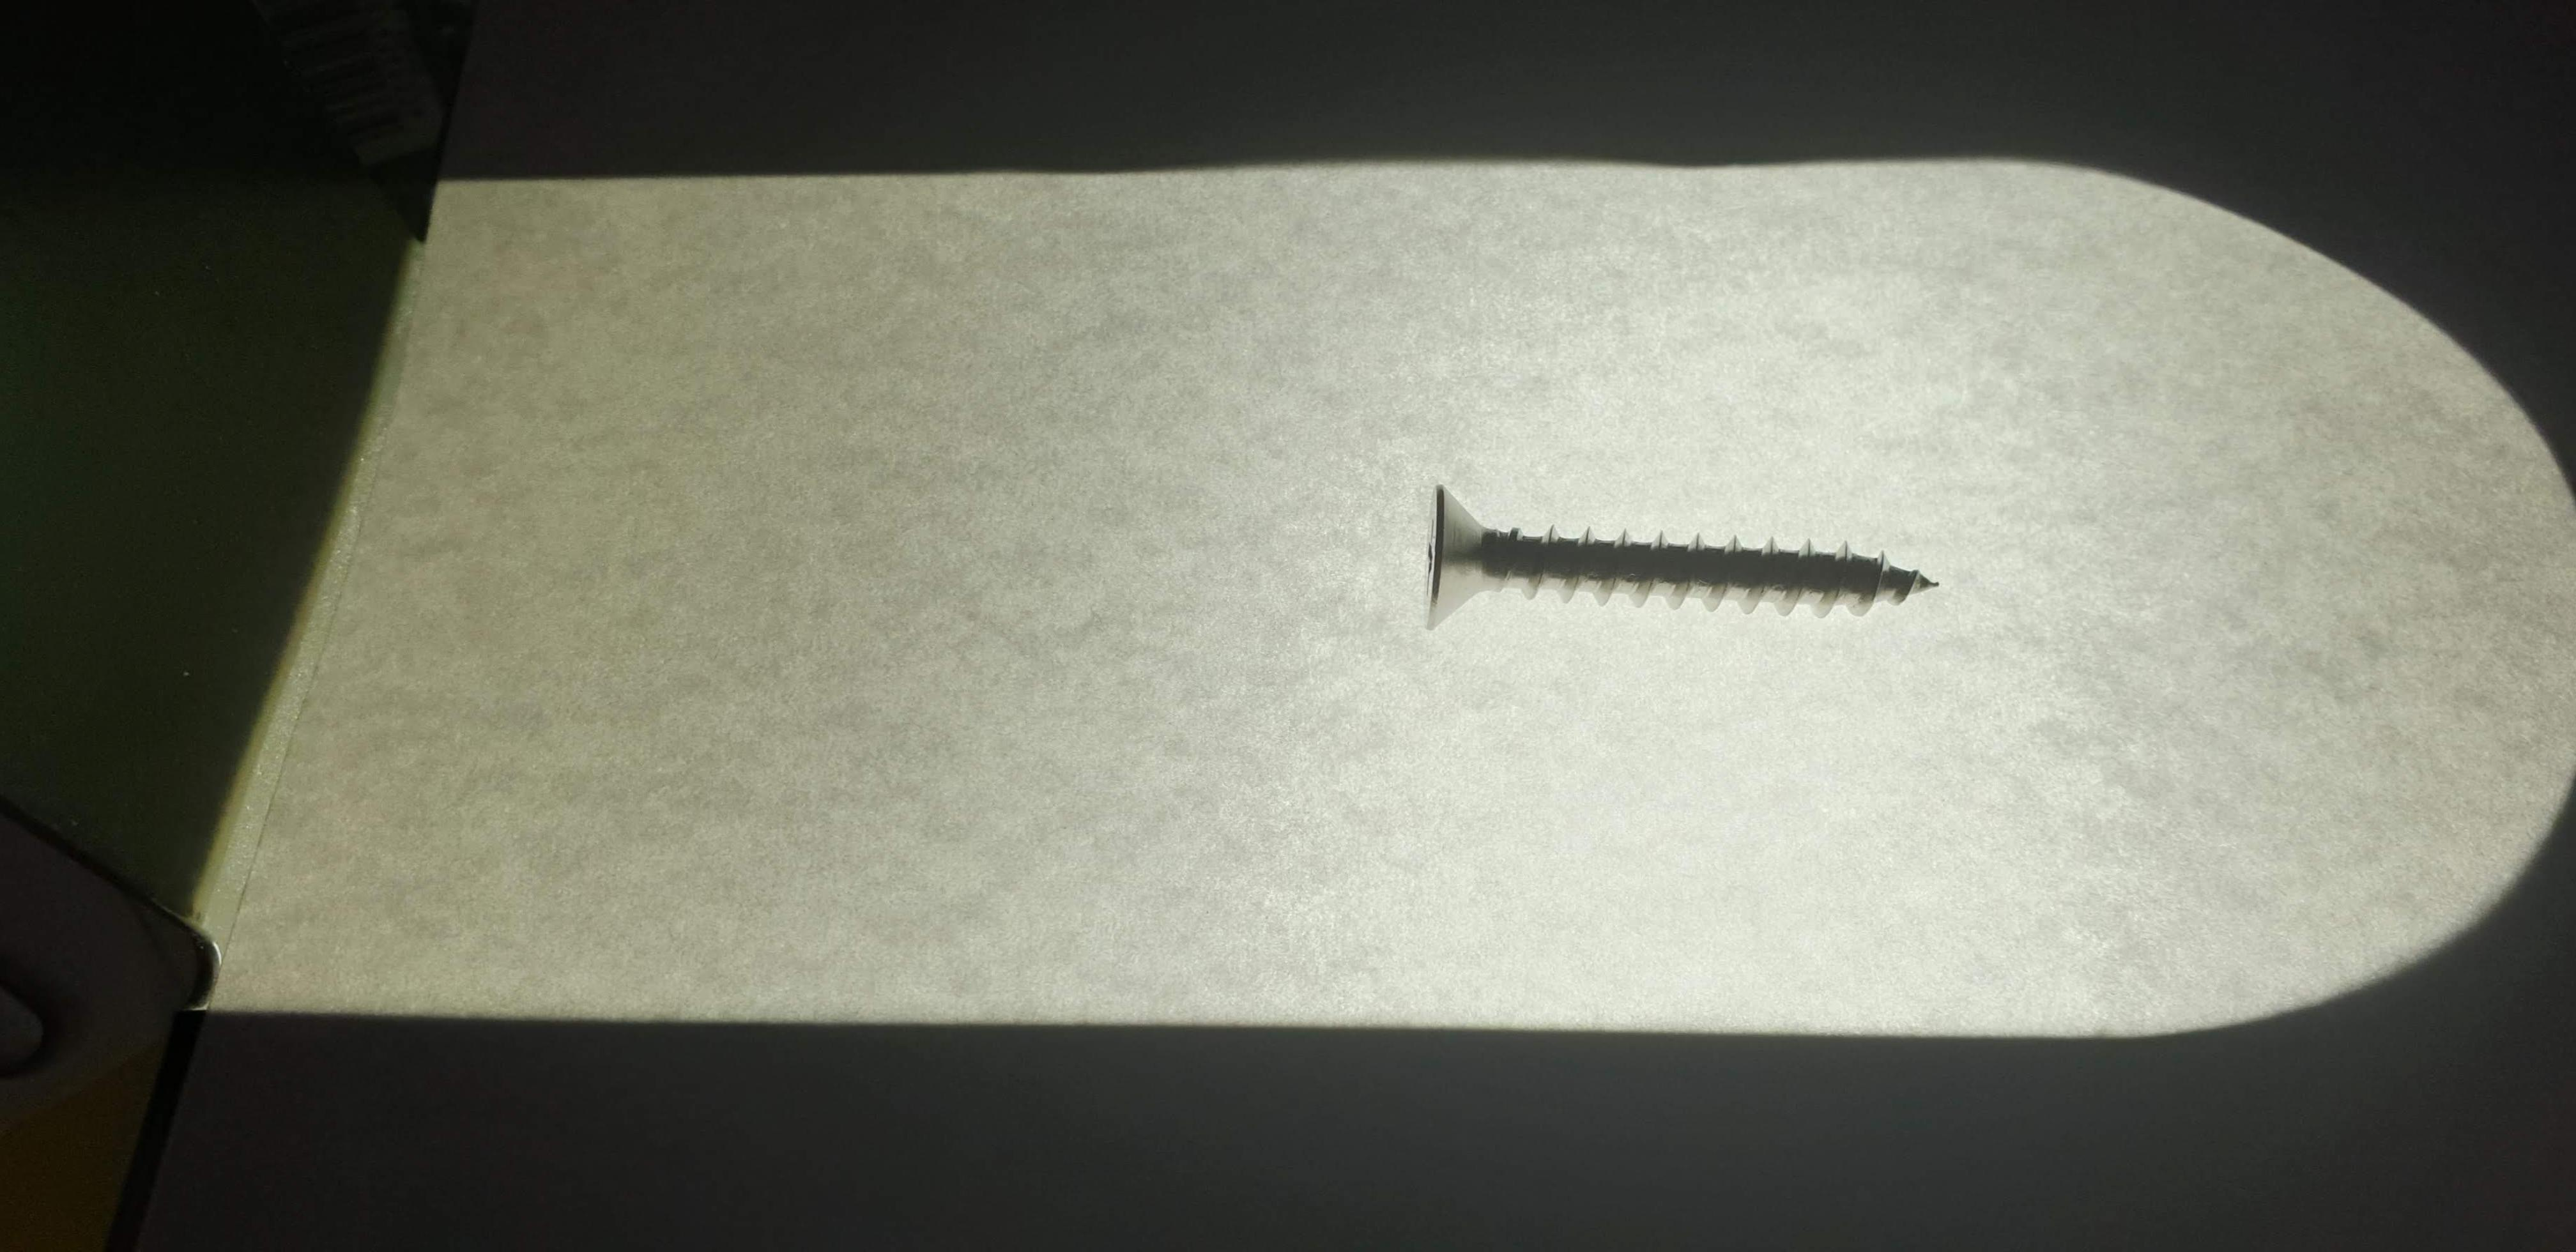S004: (1390, 437, 1973, 687)
